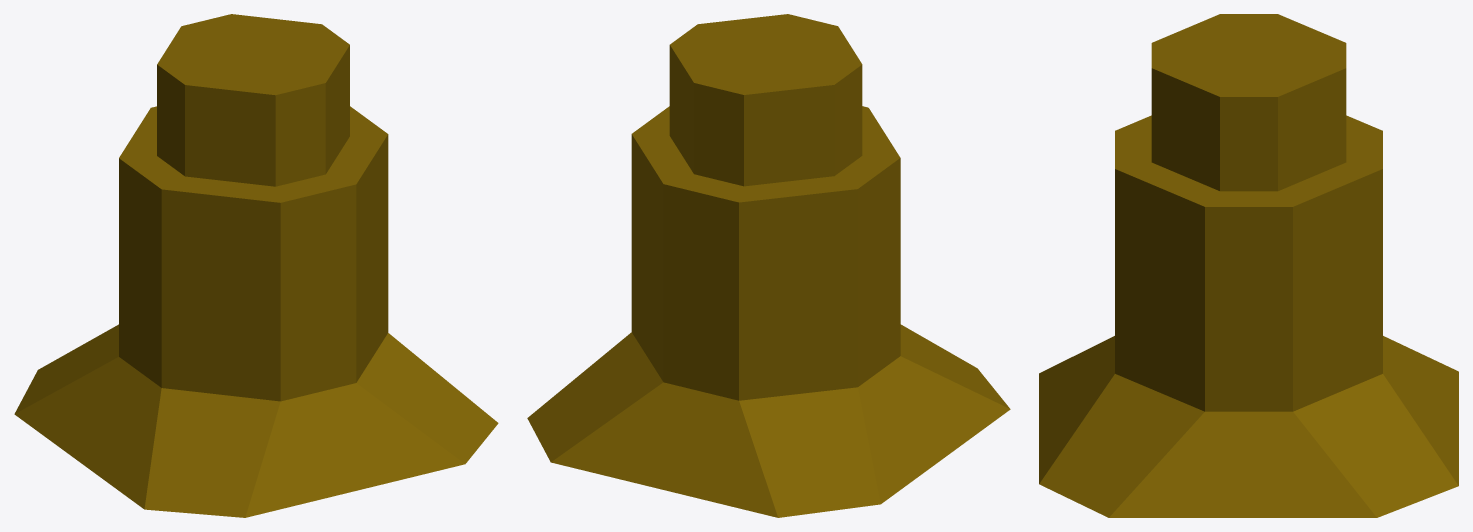
File: mesh_BuildingA_TrimStraightCapBalcony_v2.fbx
The picture shows the model from 3 angles, left to right: view 1: azimuth 30°, elevation 25°; view 2: azimuth 150°, elevation 25°; view 3: azimuth 270°, elevation 25°; orthographic projection. The views are drawn at different scales.
Parts seen in each view (by area): view 1: mesh_BuildingA_TrimStraightCapBalcony; view 2: mesh_BuildingA_TrimStraightCapBalcony; view 3: mesh_BuildingA_TrimStraightCapBalcony.
Boxes of the visible parts, bbox=[...] form: mesh_BuildingA_TrimStraightCapBalcony: bbox=[14, 14, 498, 517]; mesh_BuildingA_TrimStraightCapBalcony: bbox=[527, 14, 1010, 517]; mesh_BuildingA_TrimStraightCapBalcony: bbox=[1039, 14, 1458, 517].
Bounding box in the file's own units: 49.92 × 48.76 × 49.68.
